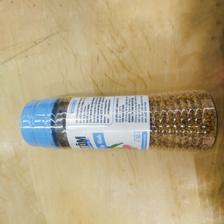TayNinh_blue: (15, 90, 219, 157)
